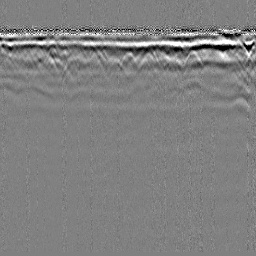cavity: (119, 51, 138, 67)
